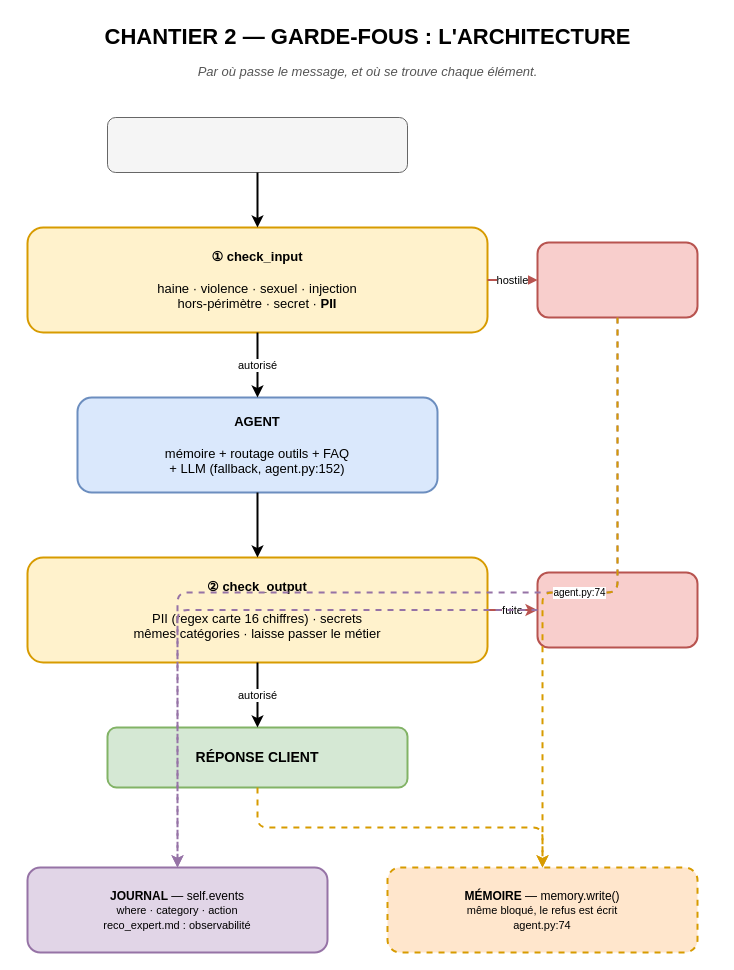
This 734x970 diagram has some shape labels left out. Here are the shapes that lost their labels. From the top down, the centre of each, then its label:
At point (257, 144): "MESSAGE CLIENT".
At point (617, 279): "BLOQUÉ refus + journal".
At point (617, 609): "BLOQUÉ remplacé + journal".
